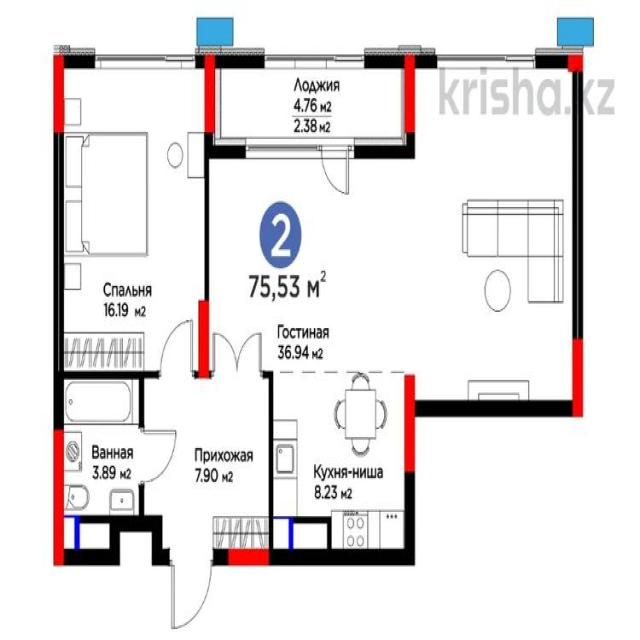balcony: (210, 58, 410, 149)
bathroom: (58, 376, 141, 524)
hallway: (142, 375, 268, 563)
living_room: (58, 56, 208, 376)
studio: (203, 55, 579, 559)
